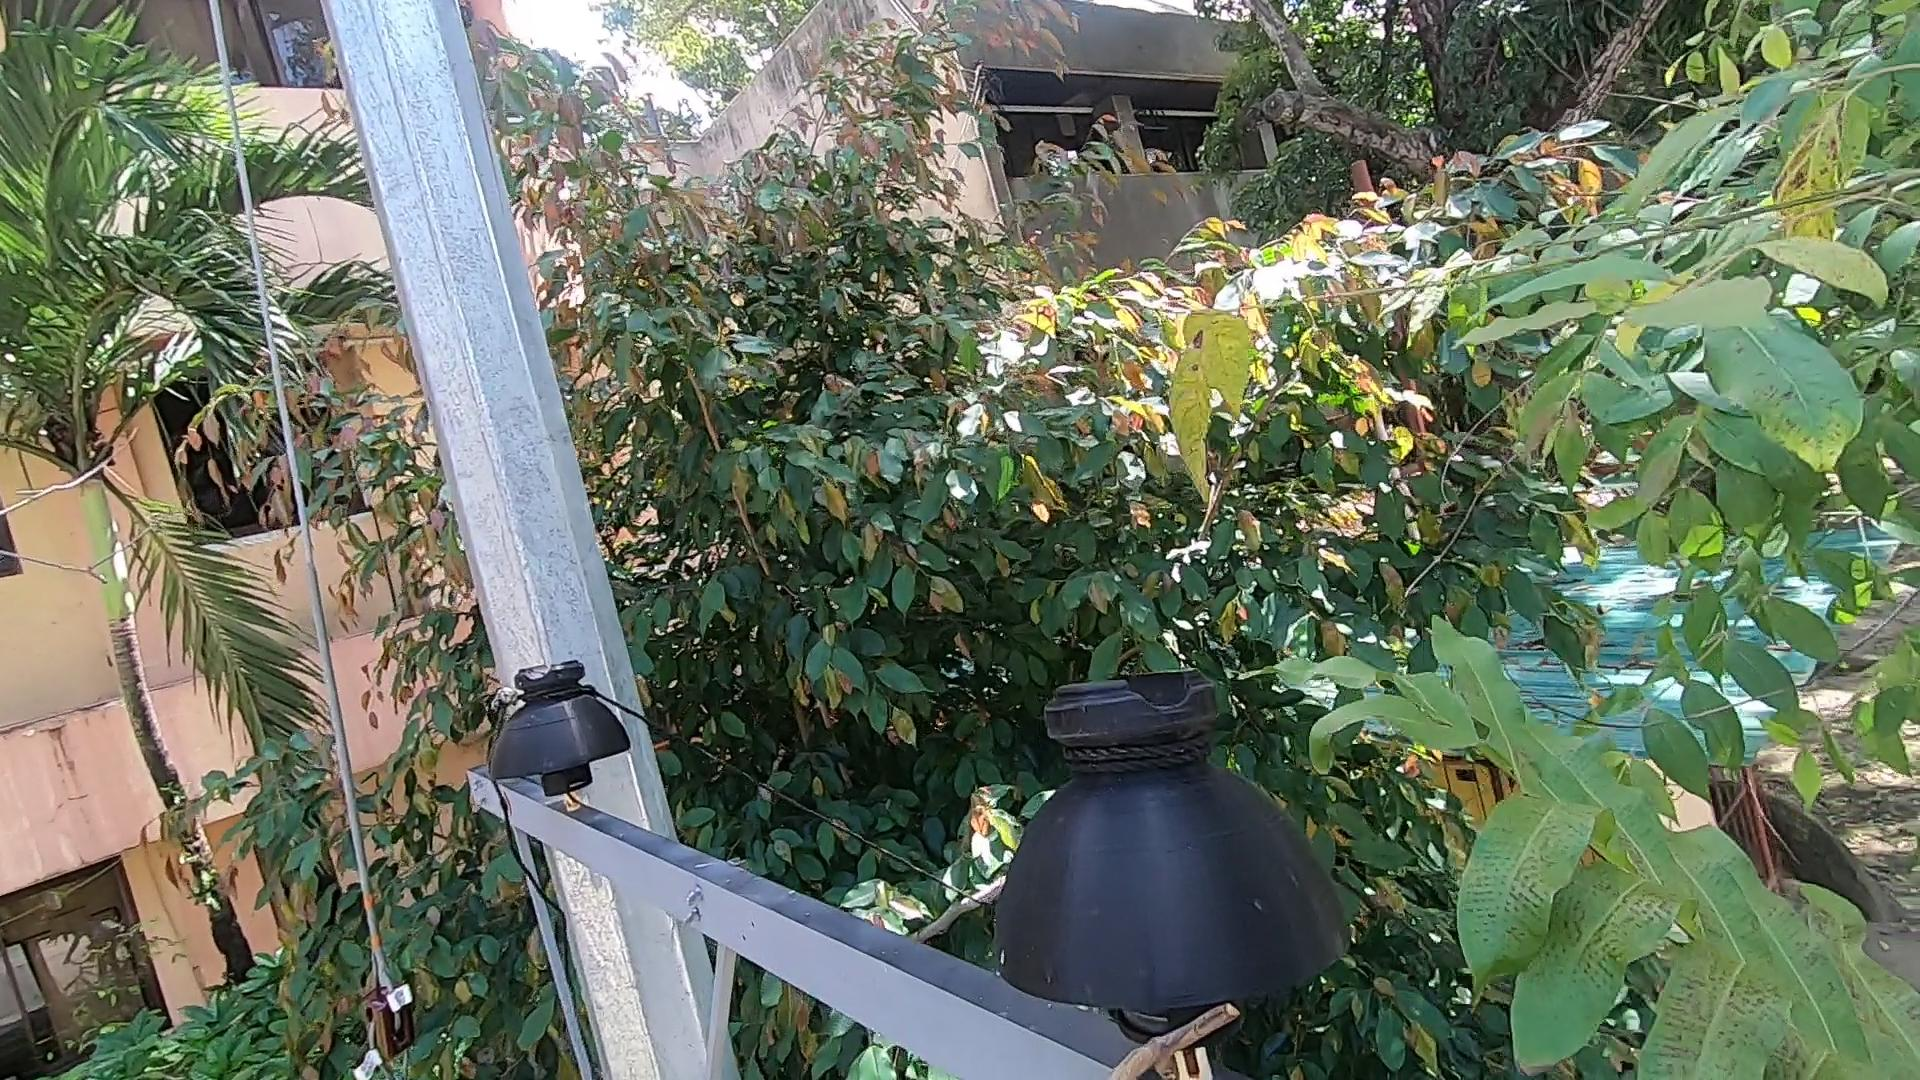tree branch: (1100, 989, 1274, 1080), (884, 881, 1009, 948)
